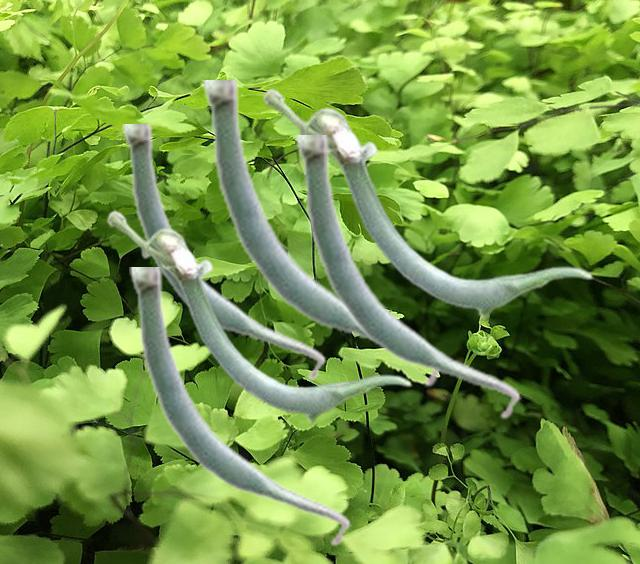french_bean: (262, 87, 592, 319), (202, 80, 442, 388), (106, 209, 411, 423), (295, 135, 520, 420), (129, 267, 350, 547), (122, 124, 325, 381)
